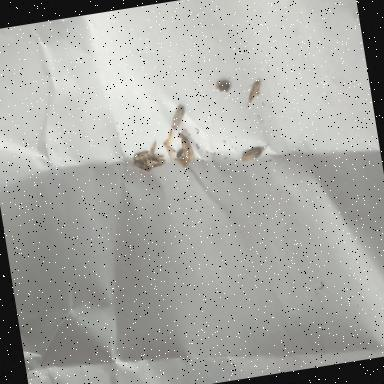pbw: (243, 79, 266, 108), (240, 144, 272, 162), (168, 104, 188, 130), (180, 135, 195, 164), (142, 154, 166, 168), (132, 158, 152, 174), (132, 150, 150, 162), (148, 140, 158, 158), (176, 156, 188, 168)
